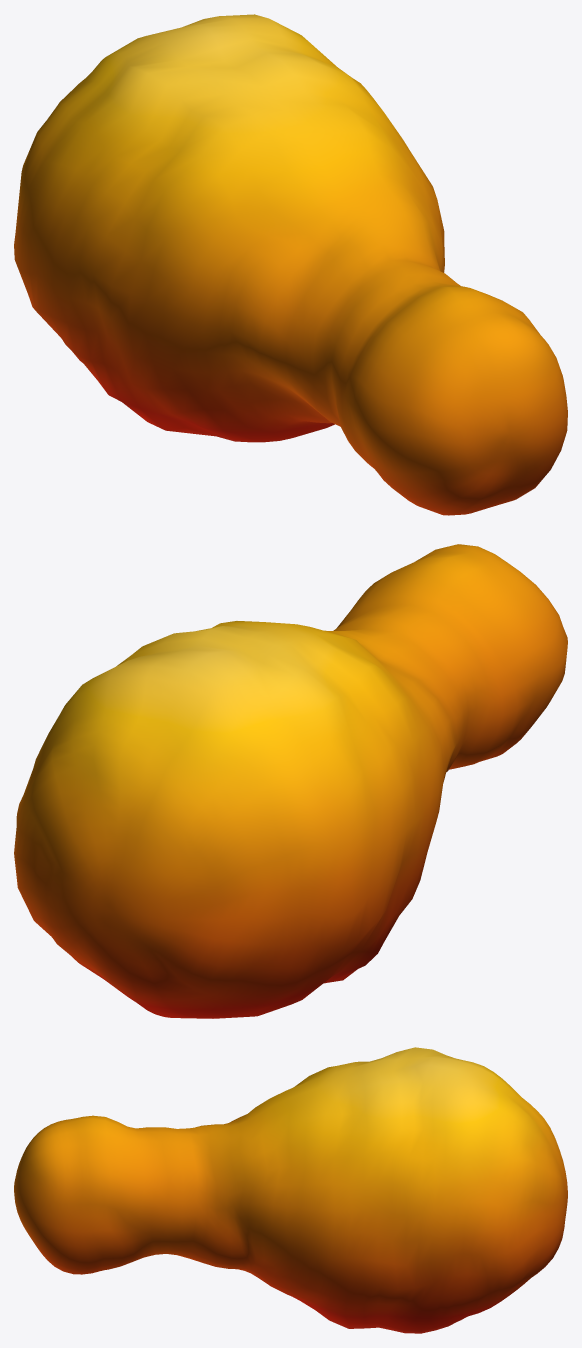
The model's file is Chick_2.fbx.
3 renders of one model, top to bottom at view 1: azimuth 30°, elevation 25°; view 2: azimuth 150°, elevation 25°; view 3: azimuth 270°, elevation 25°, orthographic. The views are drawn at different scales.
Visible parts, largest first — view 1: Chick_2; view 2: Chick_2; view 3: Chick_2.
Boxes of the visible parts, x1,y1,x2,y2 form: Chick_2: (14,14,567,515); Chick_2: (14,544,567,1018); Chick_2: (14,1047,567,1333).
Size of the model in its own units: 39.21 by 40.95 by 79.94.
